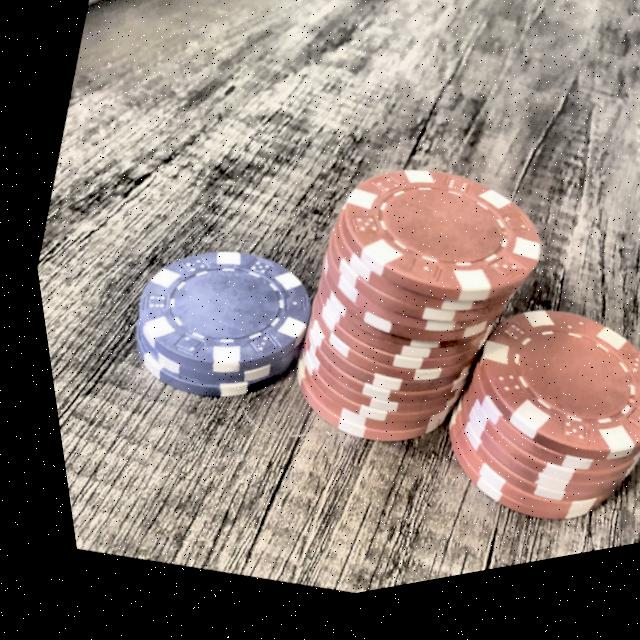Chip: (241, 134, 574, 507), (391, 281, 640, 582), (97, 220, 327, 444)
